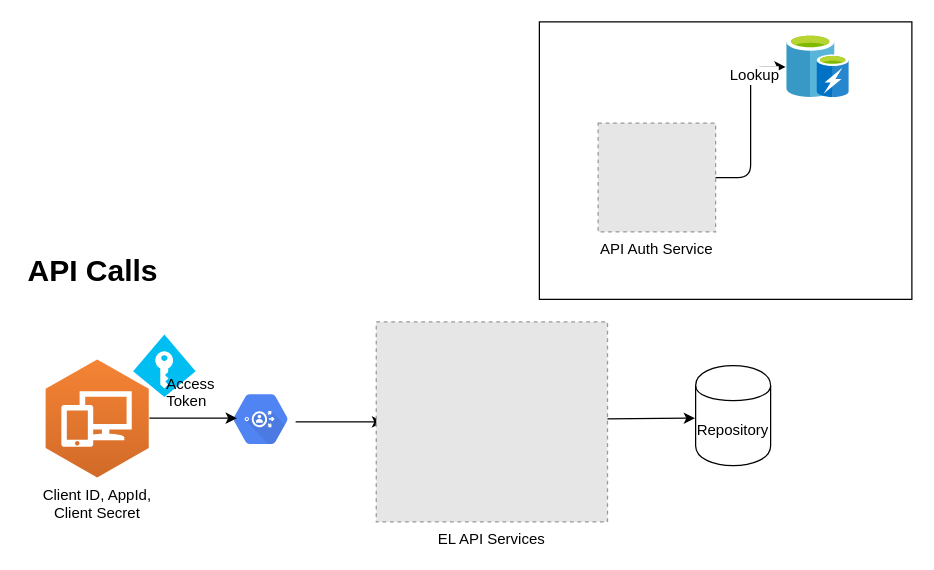
This 934x570 diagram has some shape labels left out. Grey dashed boxes stand in for pictures. Each missing label, with the centre of its shape:
Neo Rest Proxy: point (260, 418)
Tokens Cached: point (817, 66)
